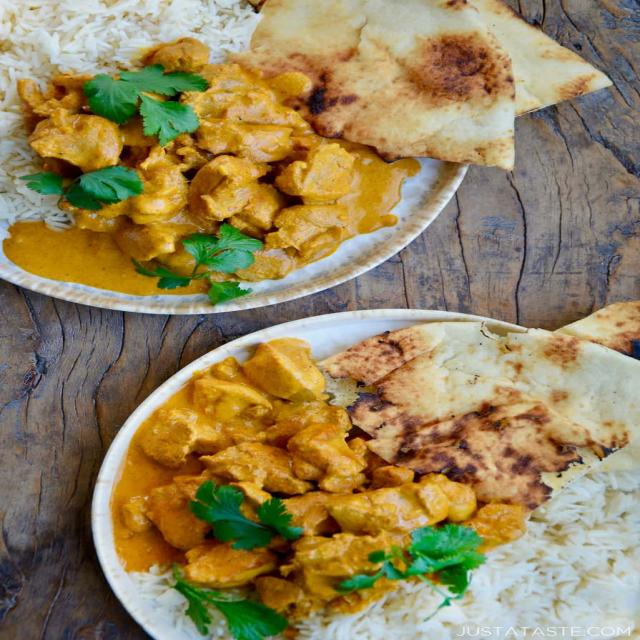Butter Chicken: (23, 69, 330, 288)
